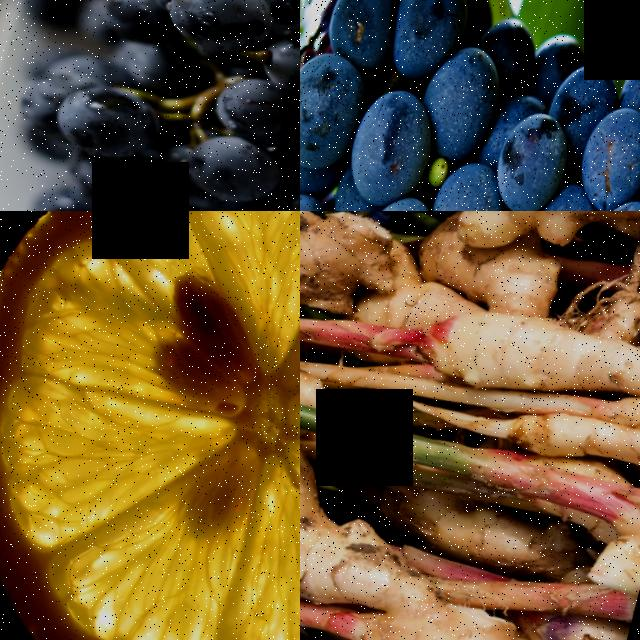ginger: (376, 220, 640, 445), (300, 446, 576, 640), (452, 211, 640, 312), (300, 211, 412, 340)
grapes: (300, 0, 640, 211), (11, 0, 300, 211)
lemon: (0, 211, 300, 640)
